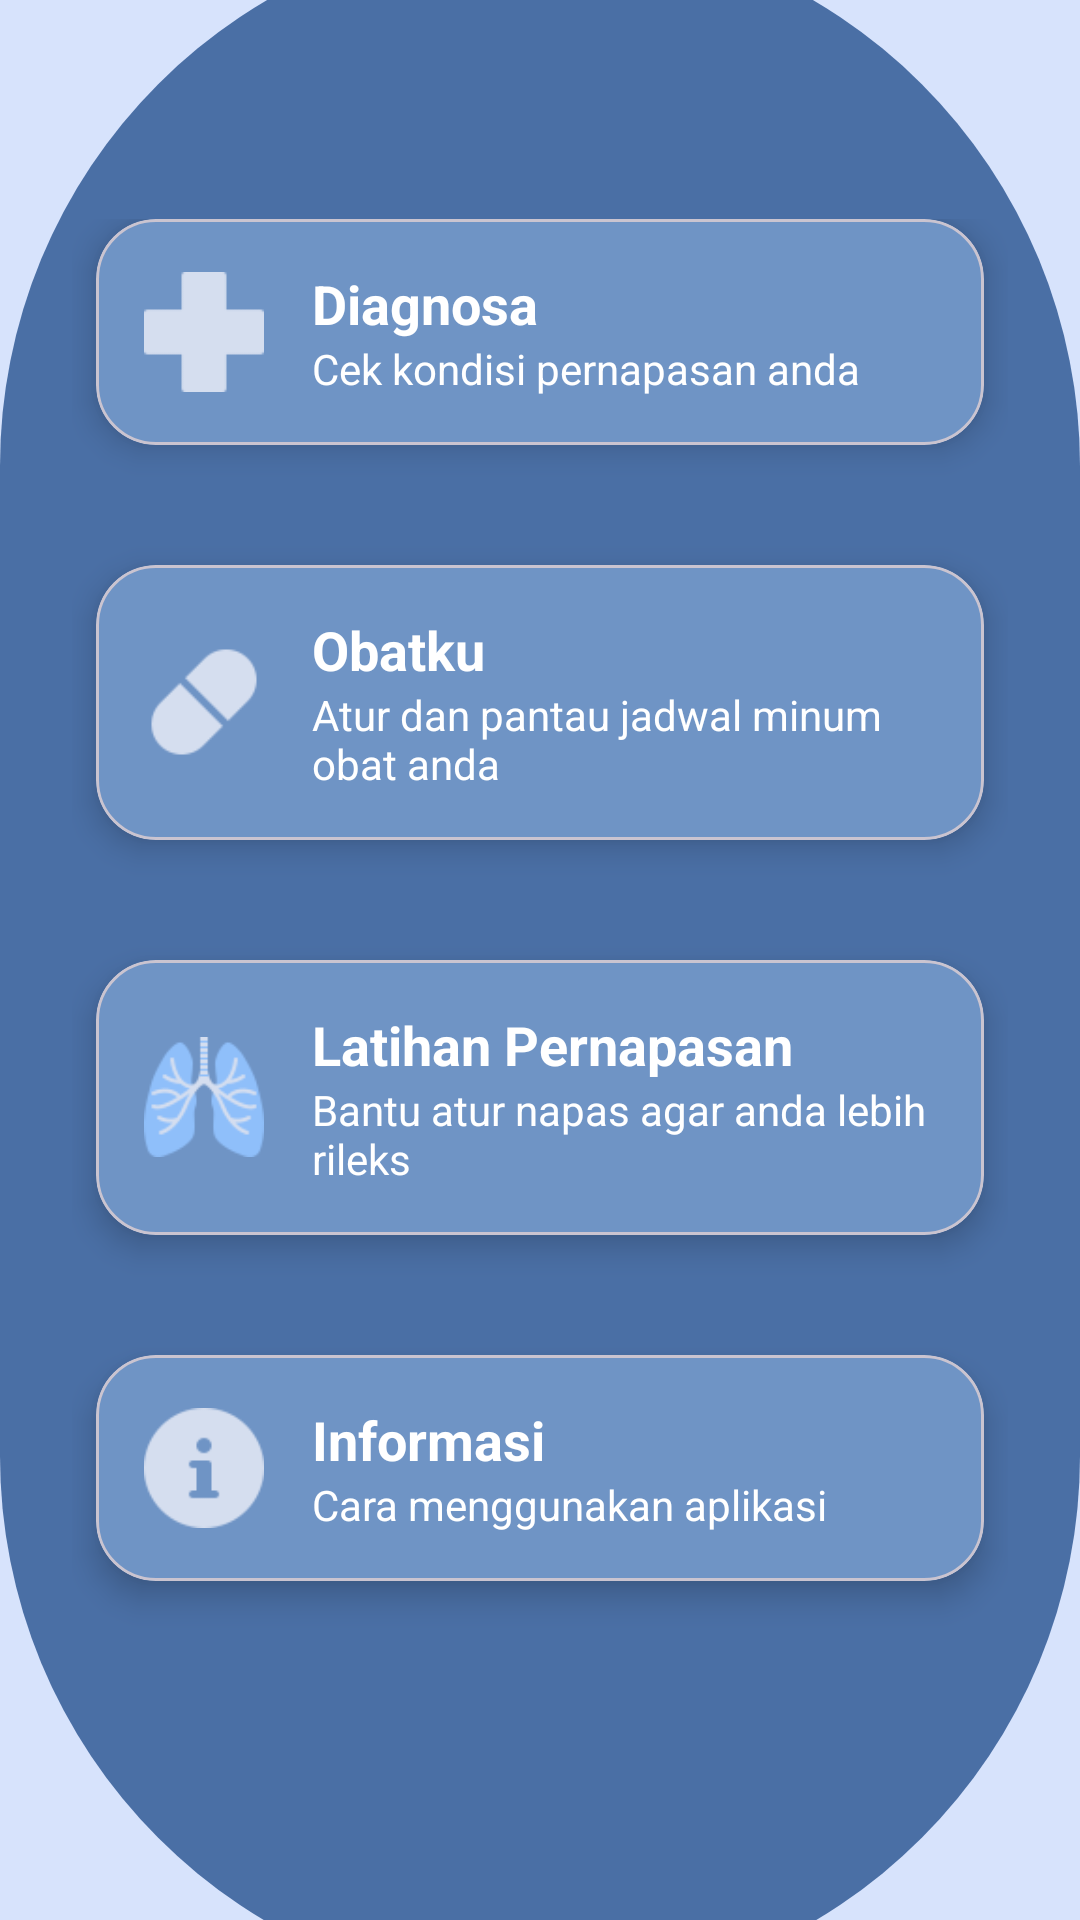

Icons on this 1080*1920 Android screen, each with its box as (x1, y1, x2, y2):
lungs: (144, 1037, 264, 1157)
pharmacy: (144, 272, 264, 392)
